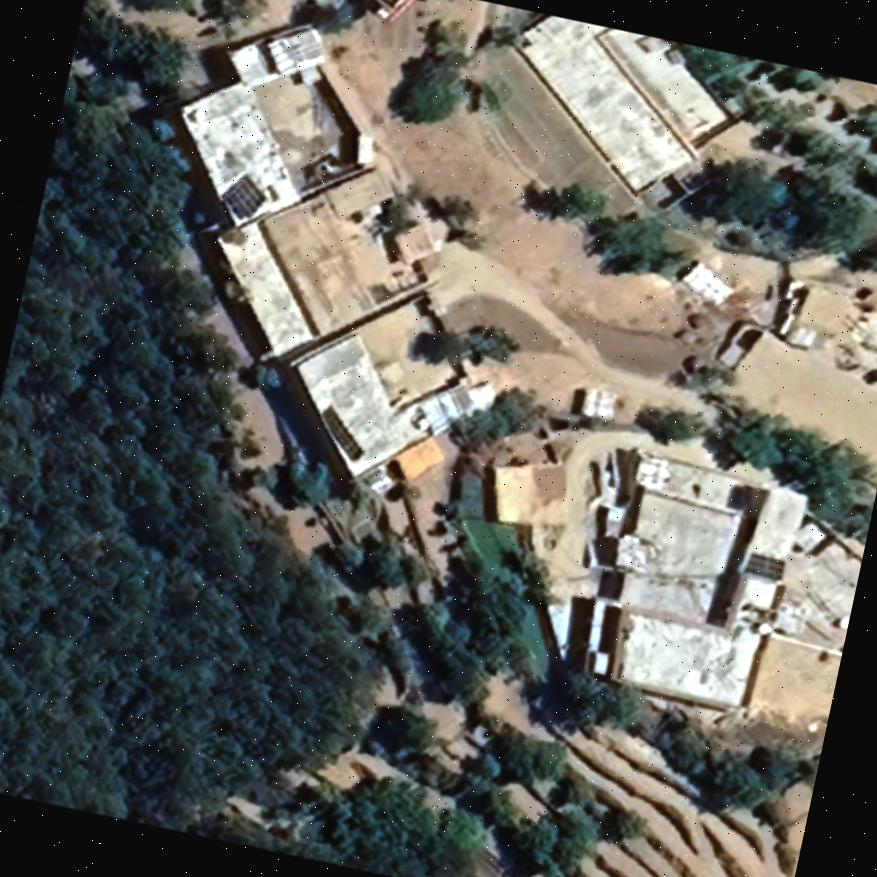Solarpanel: (218, 170, 270, 223), (741, 549, 786, 582)
